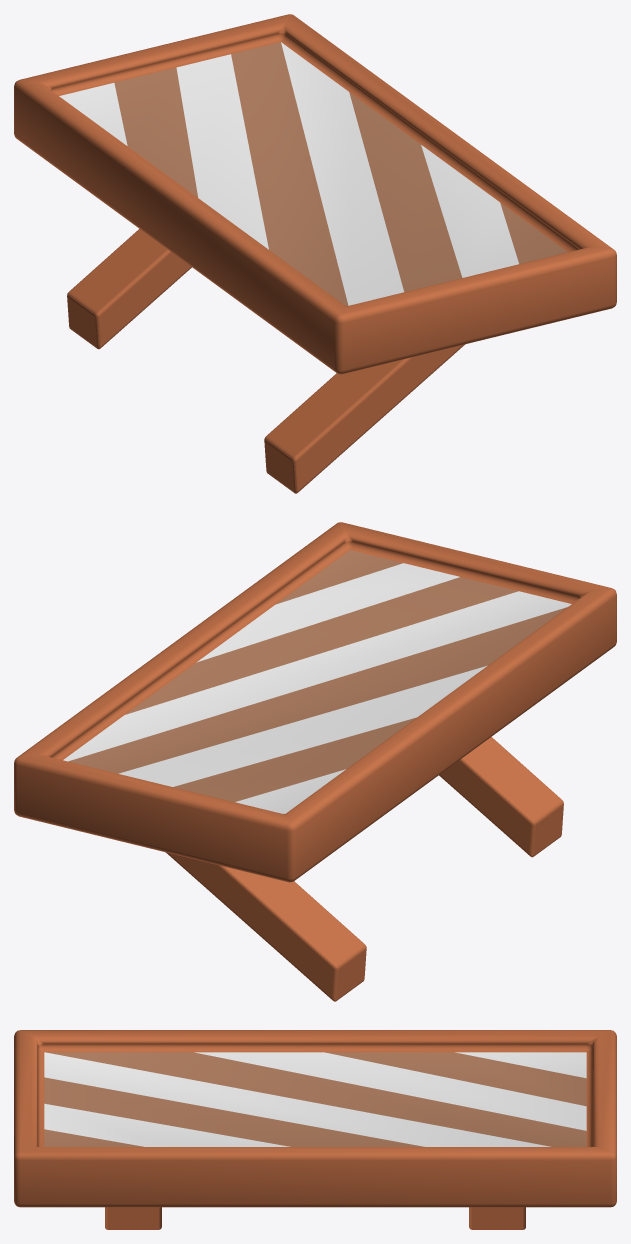
The model's file is shelf.glb.
3 views of the same model, one above another, from view 1: azimuth 30°, elevation 25°; view 2: azimuth 150°, elevation 25°; view 3: azimuth 270°, elevation 25° (orthographic). The views are drawn at different scales.
Parts seen in each view (by area): view 1: shelf; view 2: shelf; view 3: shelf.
Part boxes in pixels (x1,y1,x2,y2): shelf: (14, 14, 616, 493); shelf: (14, 522, 616, 1001); shelf: (14, 1030, 616, 1229).
Bounding box in the file's own units: 0.995 × 0.7249 × 2.
